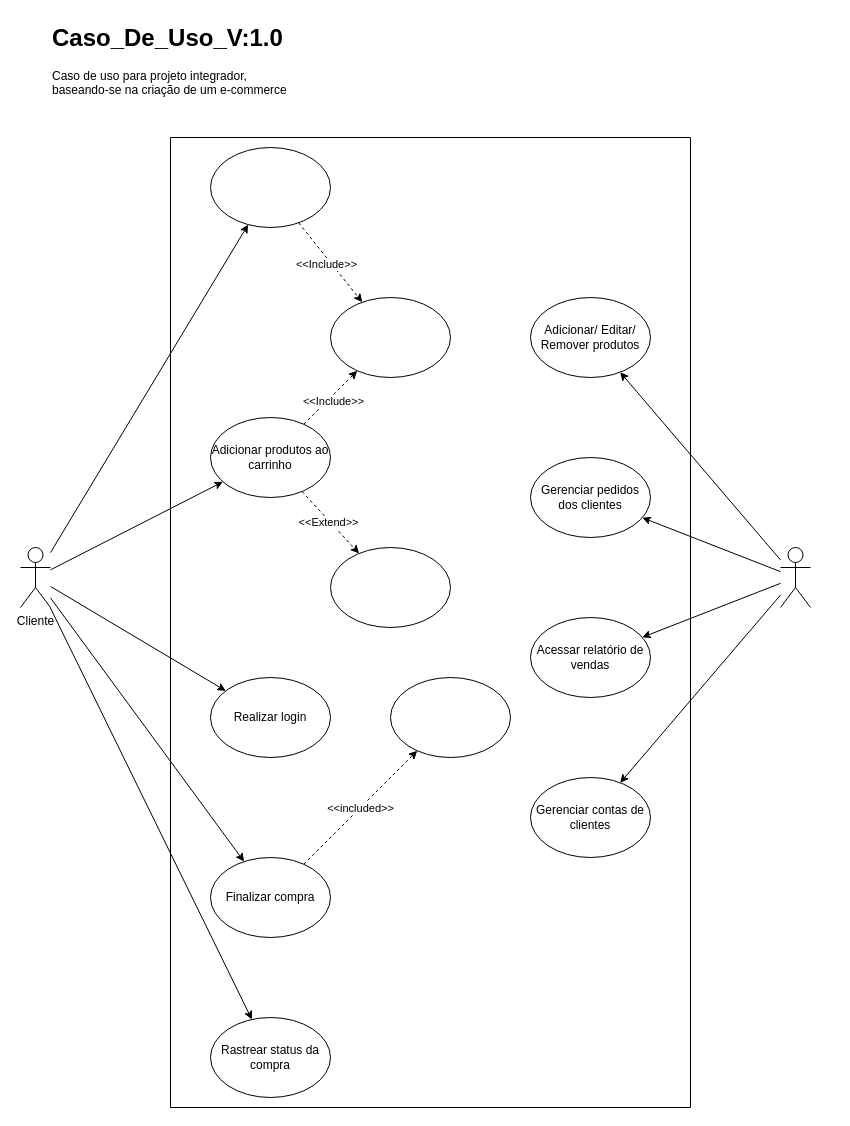
Some shapes in this 850 by 1126 pixel diagram are drawn without their labels. The shapes that lost their labels are listed below. From the top down, each one's centre as x and y in pixels, then its label:
At (270,187): "Pesquisar/Navegar por produtos".
At (390,337): "Verificar estoque".
At (390,587): "Personalizar produto".
At (795,577): "Administrador".
At (450,717): "Escolher diferentes metodos de pagamento".
